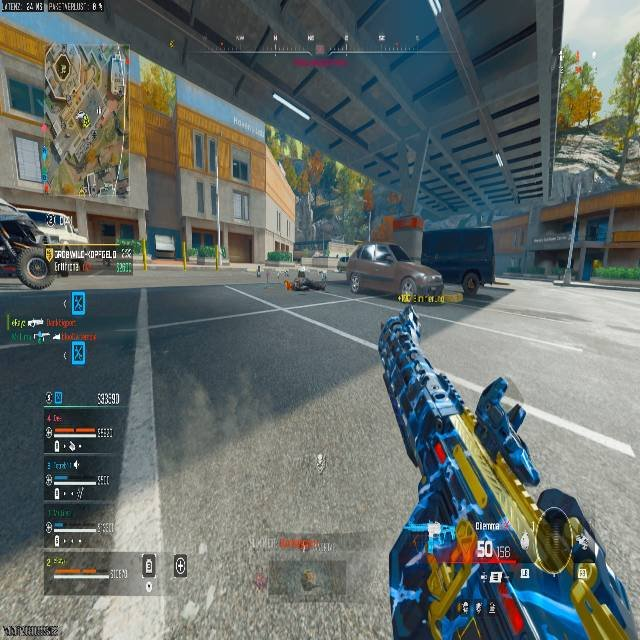head: (296, 269, 305, 279)
